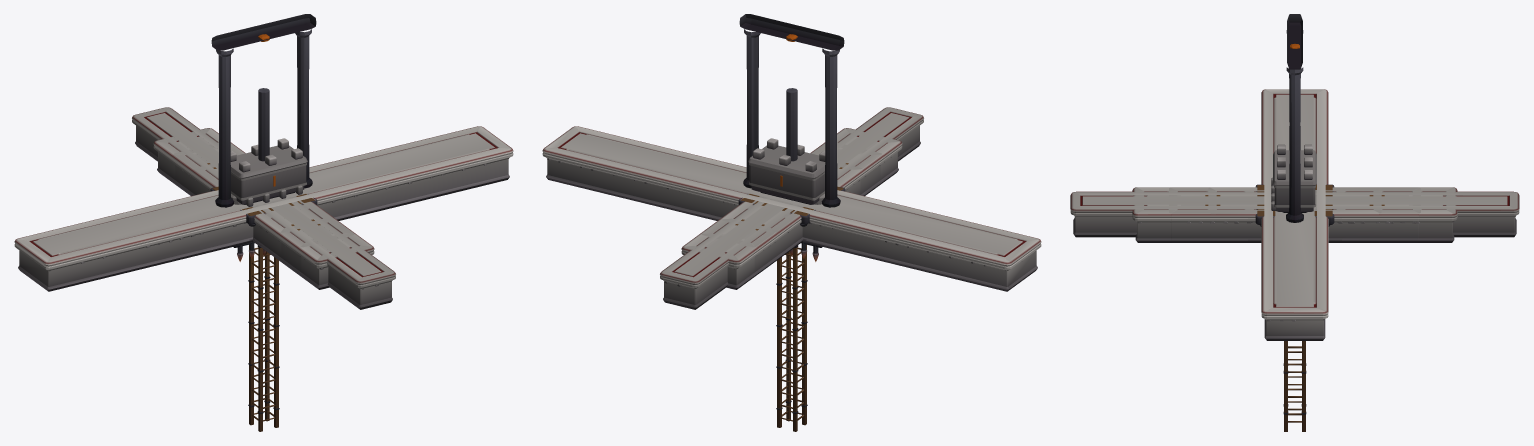
Rendered from fortress-1-S1PeOIW_.glb.
3 renders of one model, left to right at view 1: azimuth 30°, elevation 25°; view 2: azimuth 150°, elevation 25°; view 3: azimuth 270°, elevation 25°, orthographic. The views are drawn at different scales.
Visible parts, largest first — view 1: block_47.29999999999927x2x6#1, block_4x2x40_grate#0, pressFrame_6x6x2x7#0, truss_22#0, spout_5x2#0, block_6x2x29#0, block_6x2x23#1, block_6x2x16#0, block_44x2x4_grate#1, press_6x6x2#0; view 2: block_47.29999999999927x2x6#1, block_4x2x40_grate#0, pressFrame_6x6x2x7#0, truss_22#0, spout_5x2#0, block_6x2x29#0, block_6x2x23#1, block_6x2x16#0, block_44x2x4_grate#1, press_6x6x2#0; view 3: block_47.29999999999927x2x6#1, block_4x2x40_grate#0, block_6x2x23#1, block_6x2x29#0, block_6x2x16#0, pressFrame_6x6x2x7#0, spout_5x2#0, truss_22#0, block_44x2x4_grate#1, hover_7x1.5x7#0.
Part boxes in pixels (<box>): block_47.29999999999927x2x6#1: <box>14,126,513,291</box>; block_4x2x40_grate#0: <box>132,107,395,309</box>; pressFrame_6x6x2x7#0: <box>211,14,316,207</box>; truss_22#0: <box>248,244,279,431</box>; spout_5x2#0: <box>230,138,307,206</box>; block_6x2x29#0: <box>153,128,374,289</box>; block_6x2x23#1: <box>171,142,355,276</box>; block_6x2x16#0: <box>192,164,334,262</box>; block_44x2x4_grate#1: <box>37,134,490,255</box>; press_6x6x2#0: <box>233,88,269,261</box>; block_47.29999999999927x2x6#1: <box>542,126,1041,291</box>; block_4x2x40_grate#0: <box>660,107,923,309</box>; pressFrame_6x6x2x7#0: <box>739,14,844,207</box>; truss_22#0: <box>776,244,807,431</box>; spout_5x2#0: <box>748,138,825,204</box>; block_6x2x29#0: <box>681,128,902,289</box>; block_6x2x23#1: <box>700,142,884,276</box>; block_6x2x16#0: <box>721,164,863,262</box>; block_44x2x4_grate#1: <box>565,134,1018,255</box>; press_6x6x2#0: <box>786,88,822,261</box>; block_47.29999999999927x2x6#1: <box>1261,89,1328,340</box>; block_4x2x40_grate#0: <box>1070,191,1519,237</box>; block_6x2x23#1: <box>1167,187,1422,242</box>; block_6x2x29#0: <box>1132,187,1457,242</box>; block_6x2x16#0: <box>1206,187,1383,242</box>; pressFrame_6x6x2x7#0: <box>1286,14,1303,222</box>; spout_5x2#0: <box>1271,144,1316,212</box>; truss_22#0: <box>1283,341,1306,431</box>; block_44x2x4_grate#1: <box>1273,97,1316,304</box>; hover_7x1.5x7#0: <box>1255,184,1334,226</box>.
Size of the model in its own units: 47.3 by 38.4 by 40.
